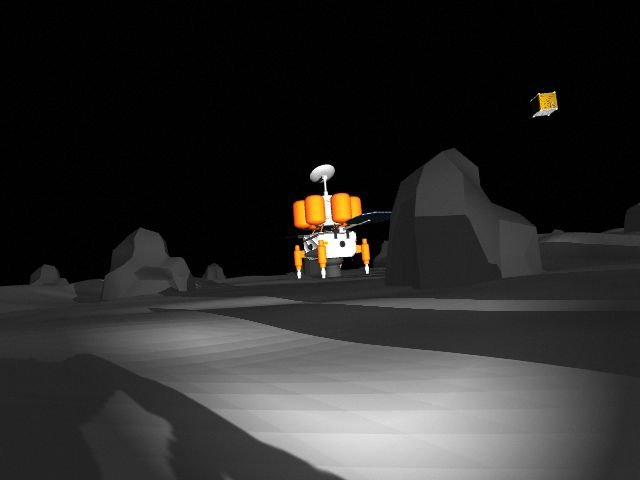homebase: (265, 163, 397, 279)
